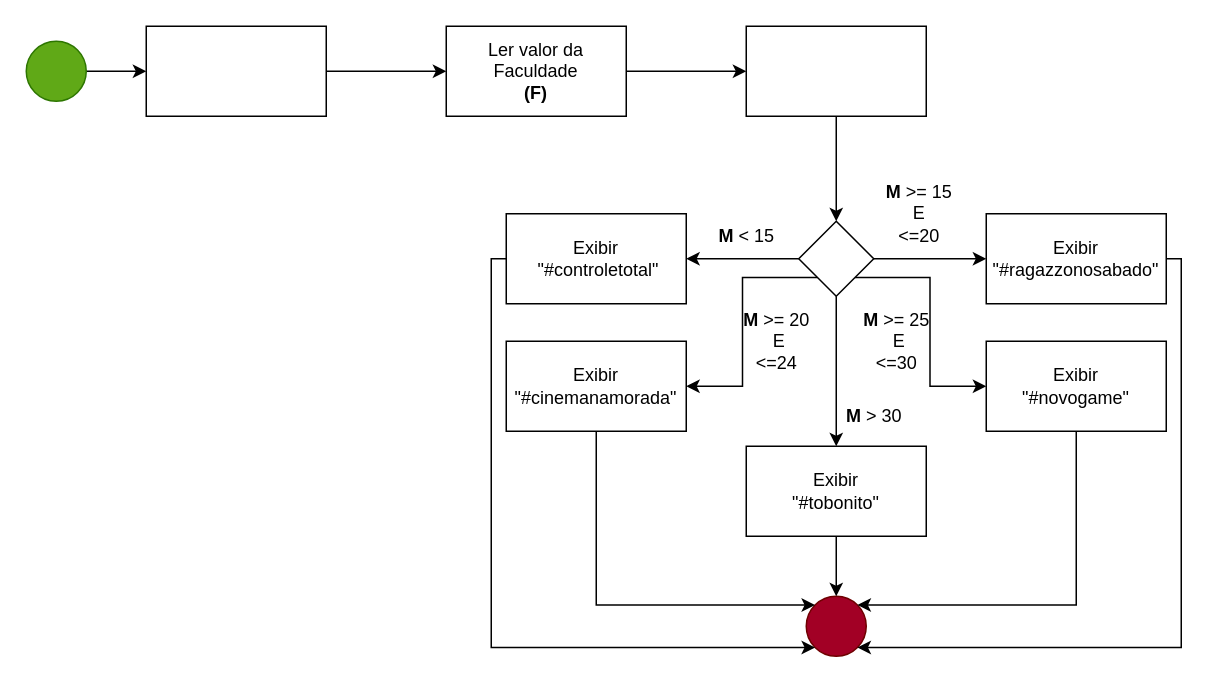
Some shapes in this 1220 by 687 pixel diagram are drawn without their labels. The shapes that lost their labels are listed below. From the top down, each one's centre as x and y in pixels, then its label:
At point (235, 70): "Ler salário de estagiário (S)".
At point (835, 70): "Calcular média (S - F) /30".
